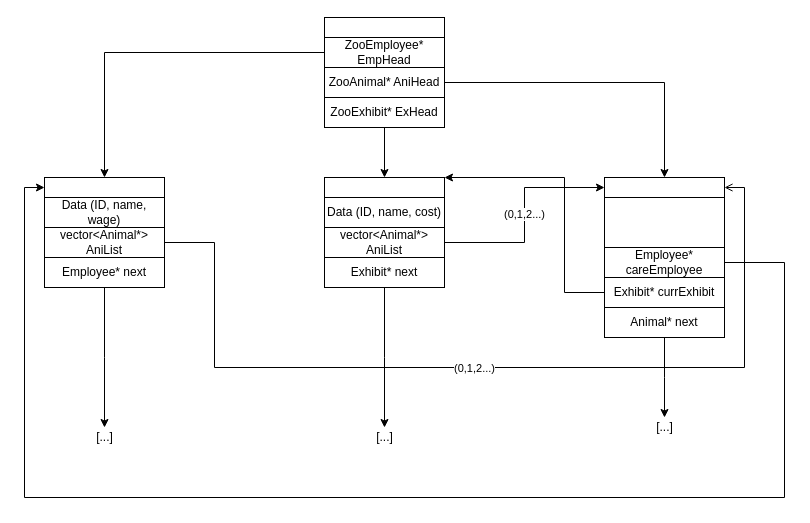
The diagram is 810 pixels wide and 523 high, and some of its shapes have lost their labels. The shapes that lost their labels are listed below. From the top down, each one's centre as x and y in pixels, then its label:
At point 384,27: "ZooInterface".
At point 104,187: "ZooEmployee".
At point 384,187: "ZooExhibit".
At point 664,187: "ZooAnimal".
At point 664,222: "Data (ID, name, species, age, cost)".
